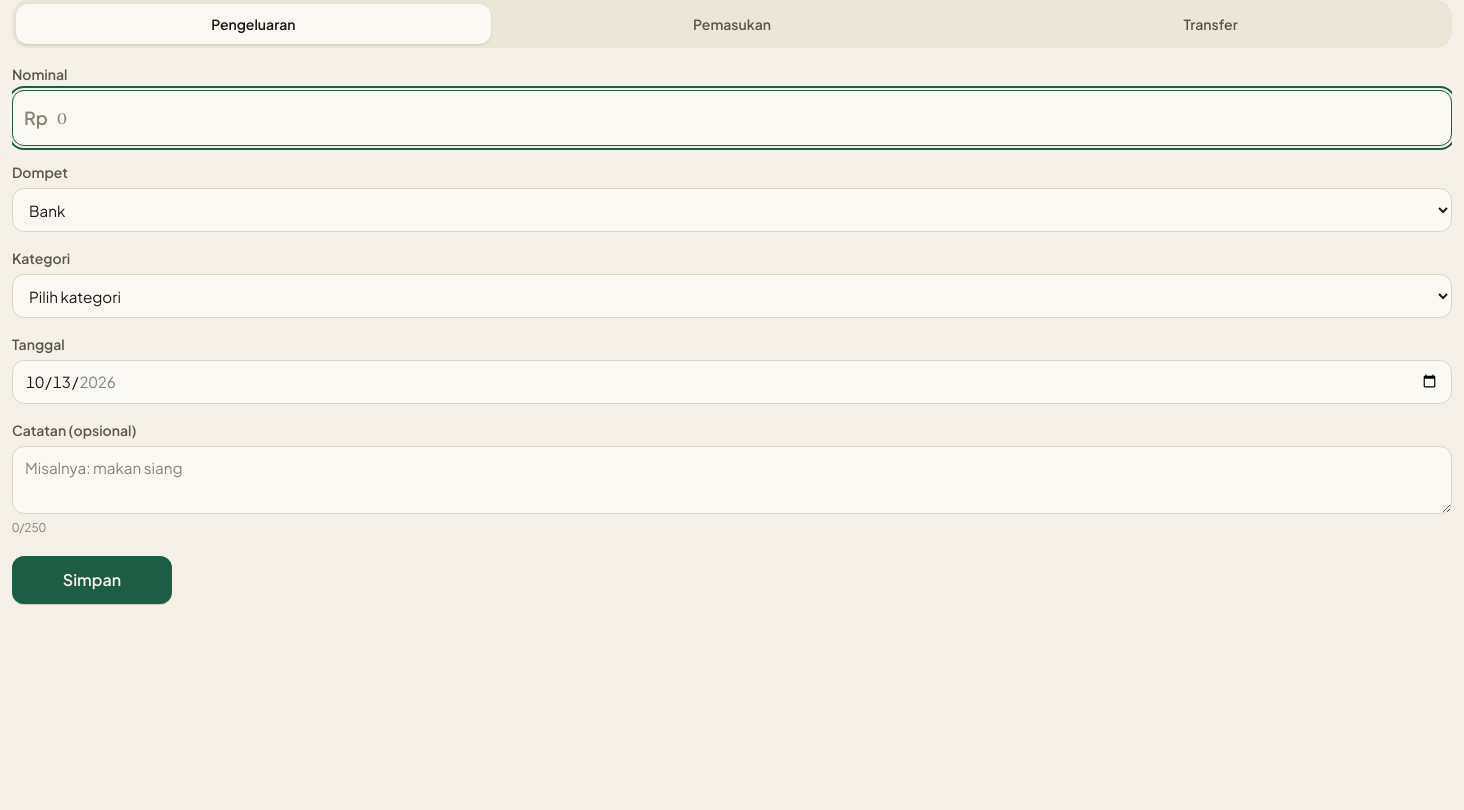
TransactionForm › shows validation messages next to the fields
Expected: the dropdown labelled "Dompet" is shown, [12,188,1452,232]
What coordinates should you click on to do the following:
click the button "Simpan"
I would click on:
 (92, 580)
Its box is [12,556,172,604].
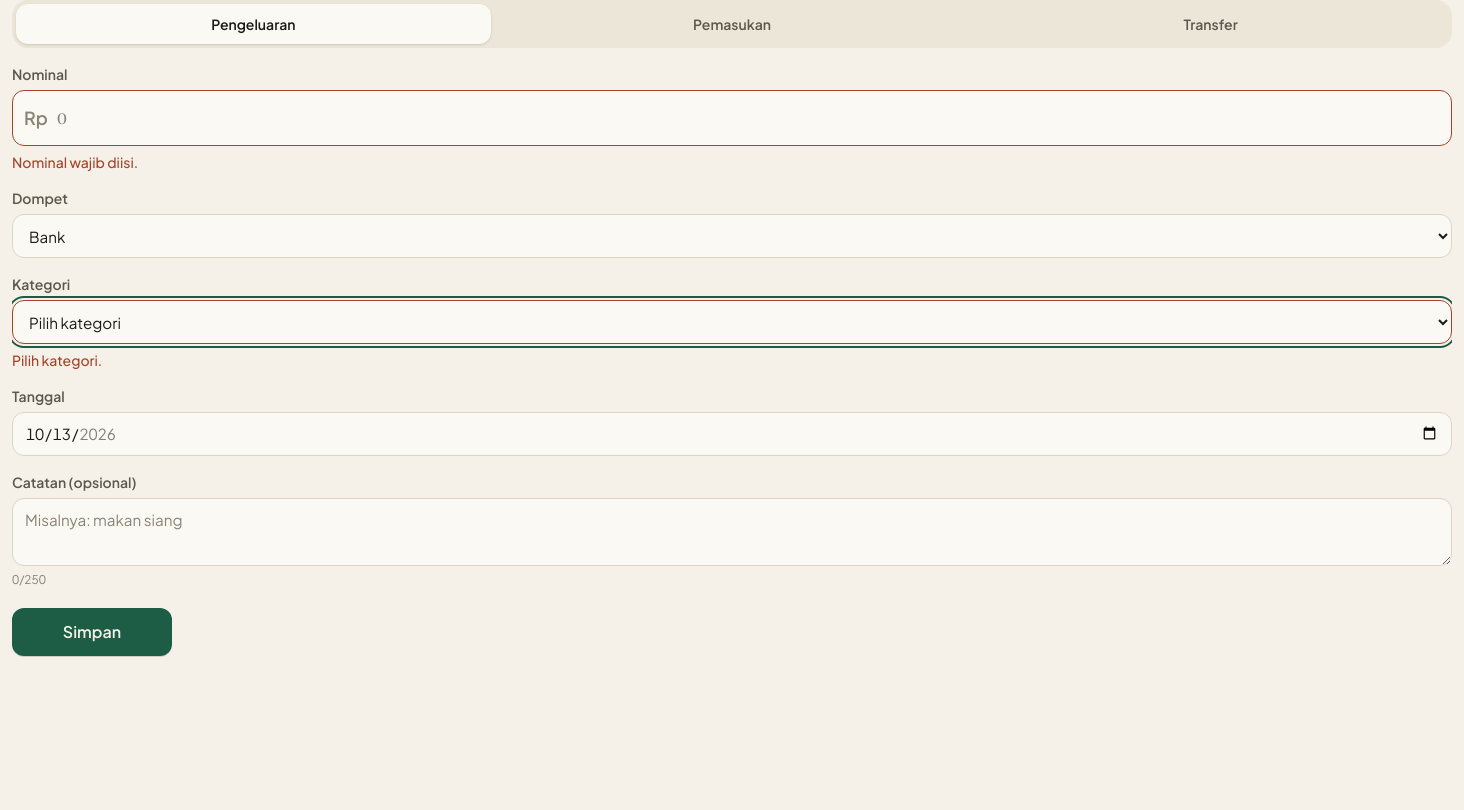
Result: the text "Nominal wajib diisi." is shown at [12,153,138,171]
Result: the text "Pilih kategori." is shown at [12,351,102,369]
